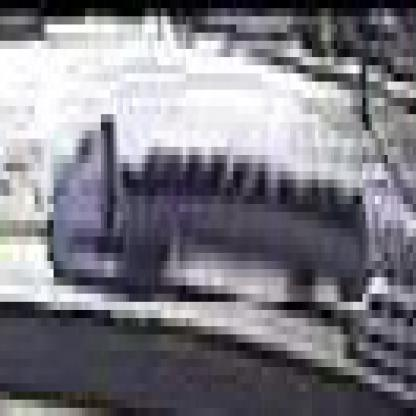container: (55, 115, 367, 311)
